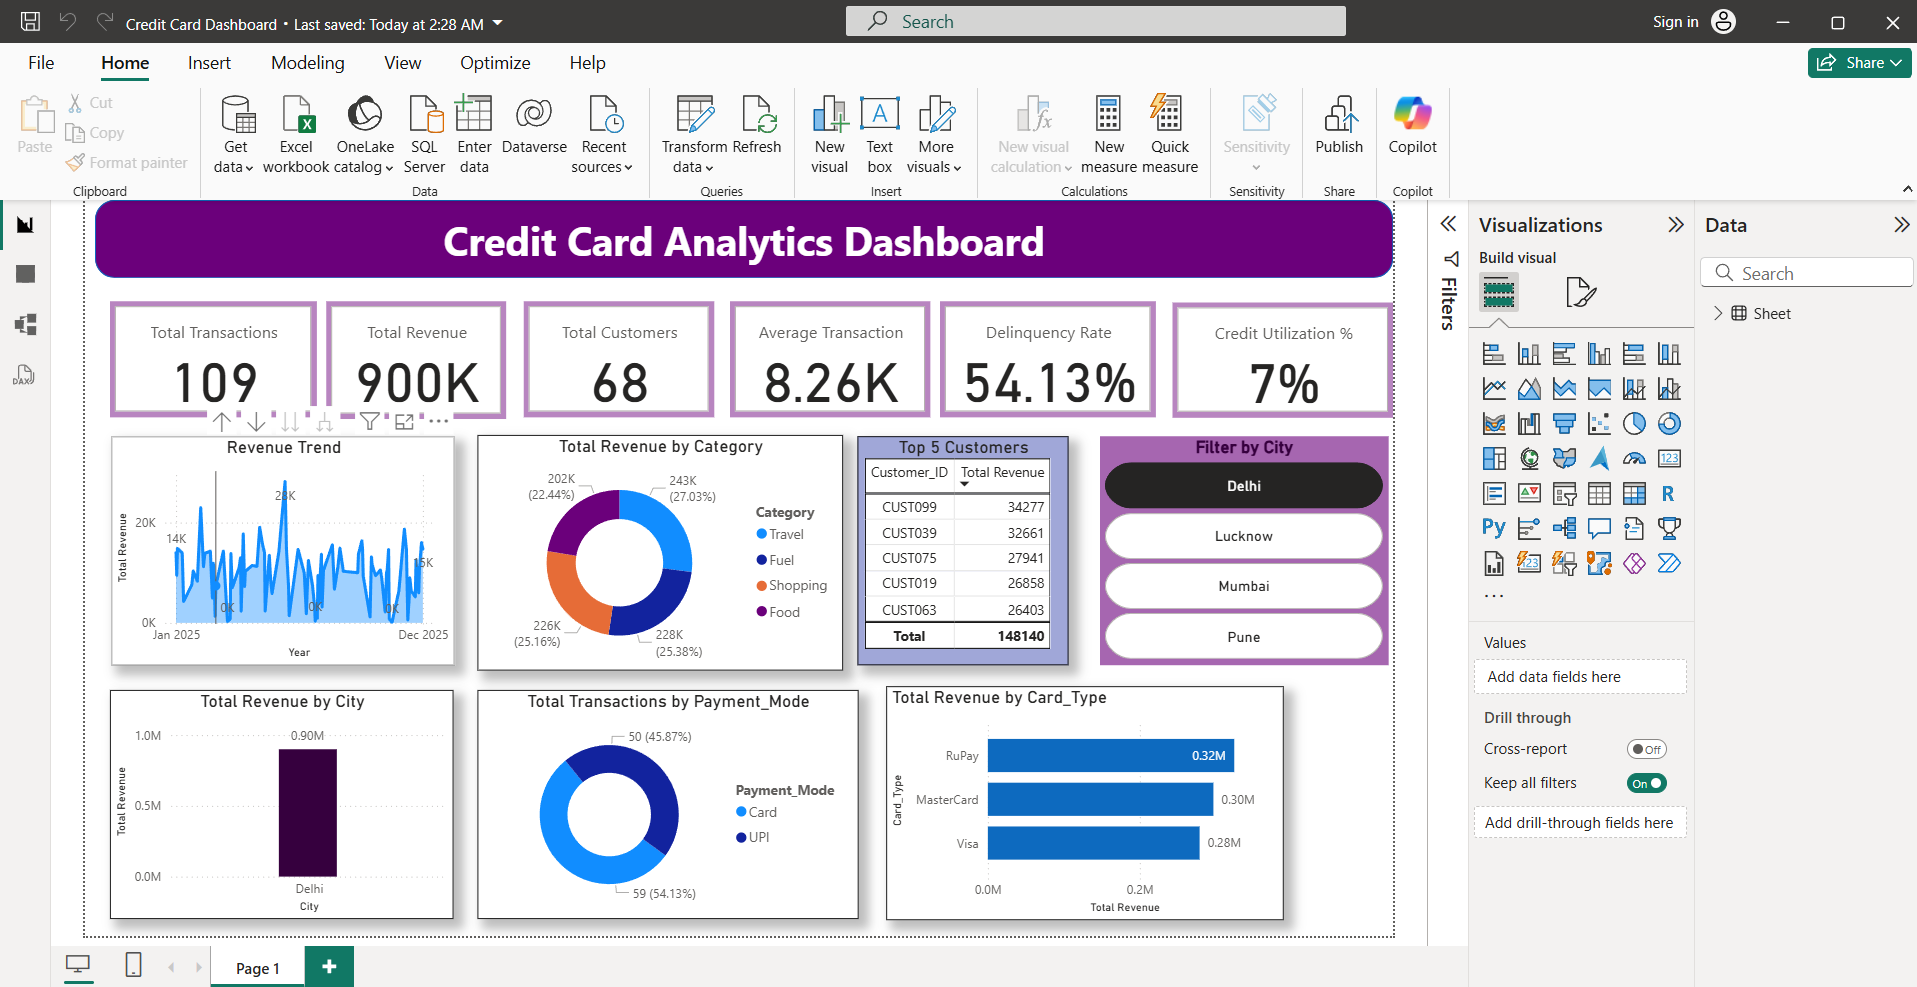

This screenshot's page, from the dashboard's own definition file:
{"tool":"powerbi","page":{"name":"Page 1","canvas":[1280,720],"ordinal":0},"visuals":[{"type":"shape","box":[10,0,1270,76.2],"z":0},{"type":"cardVisual","fields":{"Data":["Sheet.Total Revenue"]},"box":[25,98.8,202.5,113.8],"z":1000},{"type":"cardVisual","fields":{"Data":["Sheet.Total Revenue"]},"box":[236.2,98.8,176.2,115],"z":2000},{"type":"cardVisual","fields":{"Data":["Sheet.Total Customers"]},"box":[428.8,98.8,186.2,113.8],"z":3000},{"type":"cardVisual","fields":{"Data":["Sheet.Average Transaction"]},"box":[631.2,98.8,196.2,113.8],"z":4000},{"type":"donutChart","fields":{"Category":["Sheet.Category"],"Y":["Sheet.Total Revenue"]},"box":[383.8,230,357.5,230],"z":5000},{"type":"barChart","fields":{"Category":["Sheet.Card_Type"],"Y":["Sheet.Total Revenue"]},"box":[783.8,476.2,388.8,228.8],"z":6000},{"type":"donutChart","fields":{"Category":["Sheet.Payment_Mode"],"Y":["Sheet.Total Transactions"]},"box":[383.8,478.8,372.5,223.8],"z":7000},{"type":"clusteredColumnChart","fields":{"Y":["Sheet.Total Revenue"],"Category":["Sheet.City"]},"box":[25,478.8,336.2,223.8],"z":8000},{"type":"tableEx","title":"Top 5 Customers","fields":{"Values":["Sheet.Customer_ID","Sheet.Total Revenue"]},"box":[756.2,231.2,206.2,223.8],"z":9000},{"type":"cardVisual","fields":{"Data":["Sheet.Delinquency Rate"]},"box":[836.2,98.8,211.2,113.8],"z":10000},{"type":"advancedSlicerVisual","title":"Filter by City","fields":{"Values":["Sheet.City"]},"box":[992.5,231.2,282.5,223.8],"z":11000},{"type":"areaChart","title":"Revenue Trend","fields":{"Y":["Sheet.Total Revenue"],"Category":["Sheet.Transaction_Date.Variation.Date Hierarchy.Year","Sheet.Transaction_Date.Variation.Date Hierarchy.Quarter","Sheet.Transaction_Date.Variation.Date Hierarchy.Month","Sheet.Transaction_Date.Variation.Date Hierarchy.Day"]},"box":[26.2,231.2,336.2,223.8],"z":12000},{"type":"cardVisual","fields":{"Data":["Sheet.Credit Utilization %"]},"box":[1063.8,100,216.2,112.5],"z":13000}]}

Visuals, with their boxes on the page's 1280x720 design canvas (x1, y1, x2, y2). These are canvas units, not pixel positions in the 1917x987 screenshot, which may show the page scaled, cropped or inside an application window:
shape: (10,0,1280,76)
cardVisual - Sheet.Total Revenue: (25,99,228,213)
cardVisual - Sheet.Total Revenue: (236,99,412,214)
cardVisual - Sheet.Total Customers: (429,99,615,213)
cardVisual - Sheet.Average Transaction: (631,99,827,213)
donutChart - Sheet.Category x Sheet.Total Revenue: (384,230,741,460)
barChart - Sheet.Card_Type x Sheet.Total Revenue: (784,476,1173,705)
donutChart - Sheet.Payment_Mode x Sheet.Total Transactions: (384,479,756,703)
clusteredColumnChart - Sheet.Total Revenue x Sheet.City: (25,479,361,703)
"Top 5 Customers" tableEx: (756,231,962,455)
cardVisual - Sheet.Delinquency Rate: (836,99,1047,213)
"Filter by City" advancedSlicerVisual: (992,231,1275,455)
"Revenue Trend" areaChart: (26,231,362,455)
cardVisual - Sheet.Credit Utilization %: (1064,100,1280,212)
